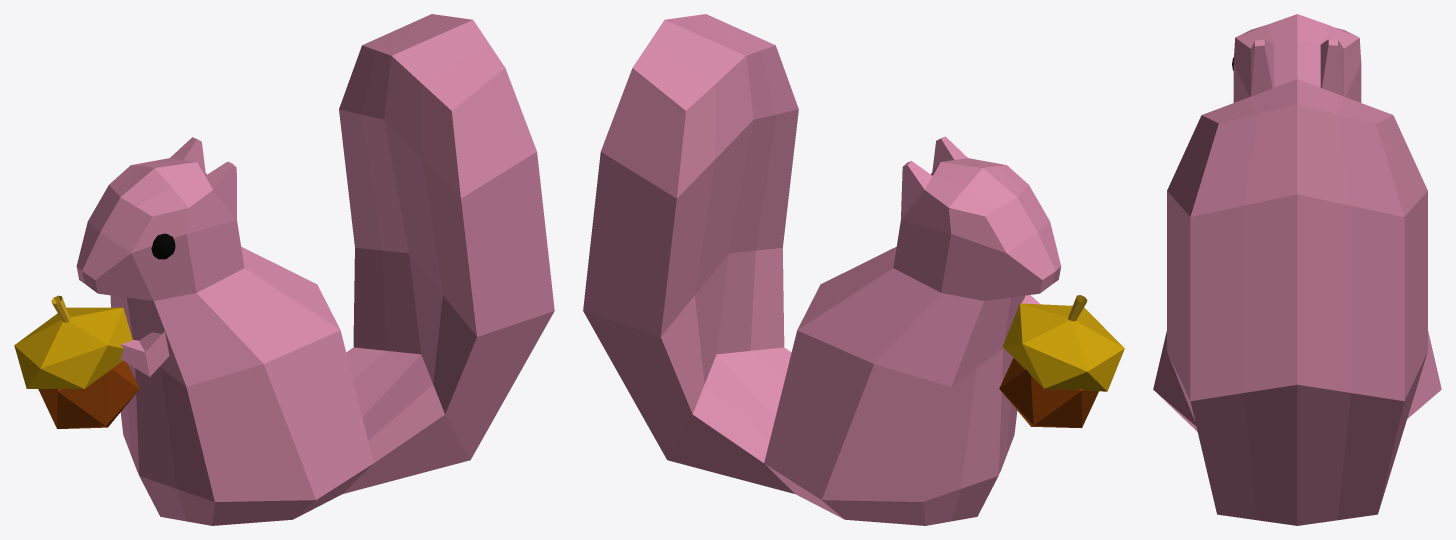
File: pink_DaramG.glb
3 views of the same model, side by side, from view 1: azimuth 30°, elevation 25°; view 2: azimuth 150°, elevation 25°; view 3: azimuth 270°, elevation 25° (orthographic). The views are drawn at different scales.
Visible parts, largest first — view 1: daramG, dotori; view 2: daramG, dotori; view 3: daramG.
Part boxes in pixels (x1=…): daramG: x1=76, y1=14, x2=554, y2=525; dotori: x1=14, y1=295, x2=139, y2=428; daramG: x1=583, y1=14, x2=1061, y2=525; dotori: x1=999, y1=295, x2=1124, y2=427; daramG: x1=1153, y1=14, x2=1441, y2=525.
Size of the model in its own units: 1.23 by 1 by 0.5806.
